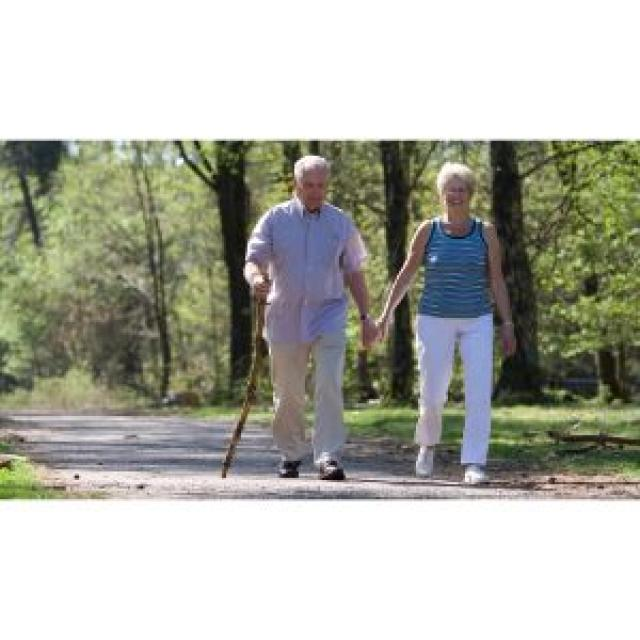nonfall: (220, 142, 378, 491), (410, 148, 531, 482)
